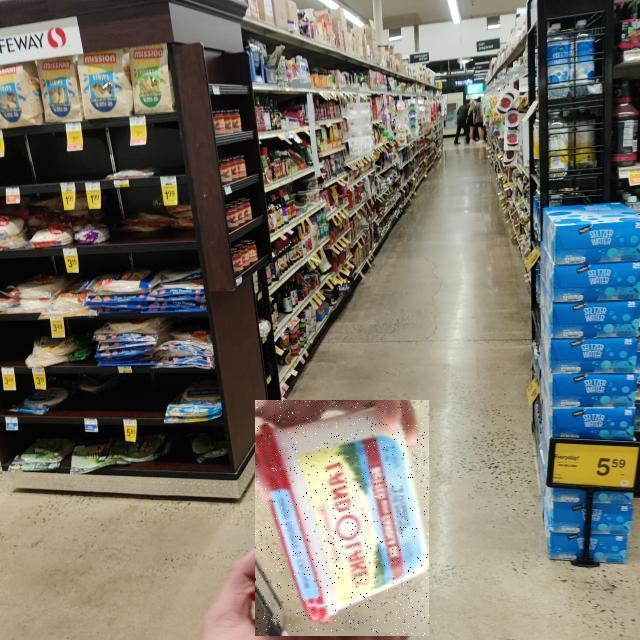Butter: (255, 401, 429, 637)
